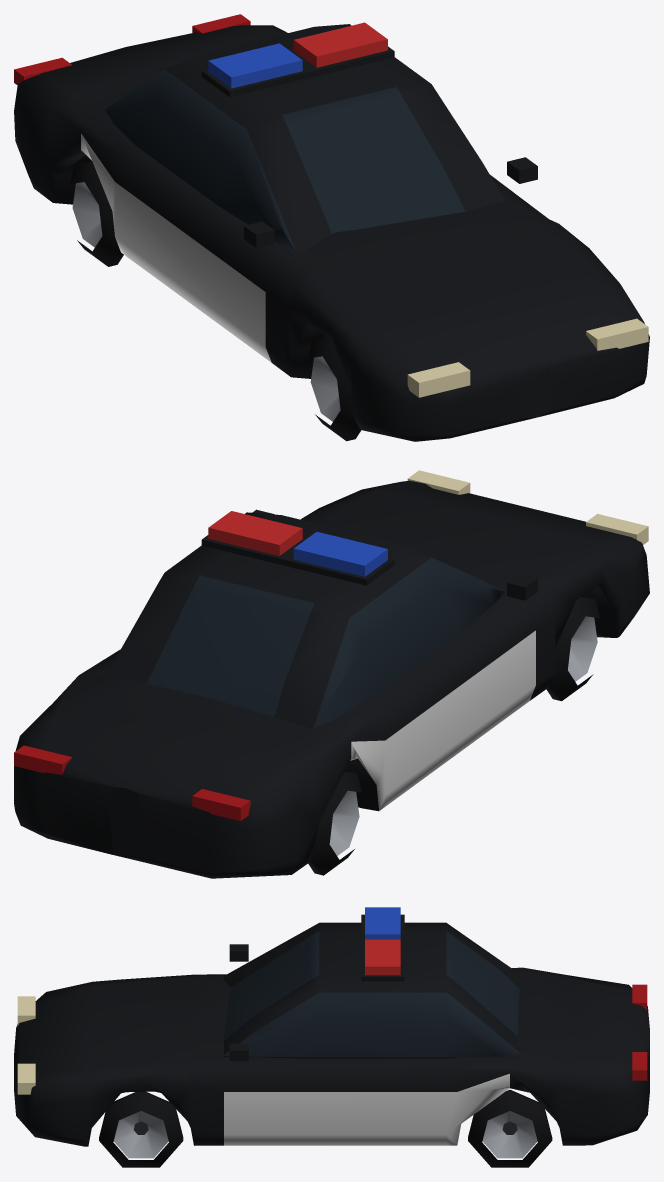
The model's file is mobile-low.glb.
The picture shows the model from 3 angles, top to bottom: view 1: azimuth 30°, elevation 25°; view 2: azimuth 150°, elevation 25°; view 3: azimuth 270°, elevation 25°; orthographic projection. The views are drawn at different scales.
Parts seen in each view (by area): view 1: body, sirens, tyre_rr, tyre_fr, light_head_r, light_head_l, rim_fr, rim_rr, light_brake_r; view 2: body, sirens, tyre_fr, tyre_rr, rim_rr, rim_fr, light_brake_r, light_brake_l, light_head_r, light_head_l; view 3: body, tyre_fl, tyre_rl, sirens, rim_rl, rim_fl, light_head_l, light_head_r, light_brake_l.
Boxes of the visible parts, left/top/right/bottom form: body: left=14, top=24, right=649, bottom=441; sirens: left=208, top=22, right=387, bottom=88; tyre_rr: left=70, top=161, right=123, bottom=266; tyre_fr: left=308, top=336, right=361, bottom=441; light_head_r: left=407, top=362, right=470, bottom=397; light_head_l: left=586, top=318, right=648, bottom=350; rim_fr: left=310, top=356, right=340, bottom=421; rim_rr: left=72, top=182, right=102, bottom=247; light_brake_r: left=14, top=57, right=71, bottom=84; body: left=14, top=480, right=649, bottom=878; sirens: left=208, top=511, right=387, bottom=576; tyre_fr: left=546, top=596, right=599, bottom=701; tyre_rr: left=308, top=771, right=361, bottom=875; rim_rr: left=329, top=790, right=359, bottom=855; rim_fr: left=568, top=616, right=597, bottom=681; light_brake_r: left=192, top=789, right=250, bottom=821; light_brake_l: left=14, top=745, right=72, bottom=774; light_head_r: left=586, top=514, right=648, bottom=544; light_head_l: left=407, top=470, right=470, bottom=494; body: left=14, top=914, right=649, bottom=1146; tyre_fl: left=99, top=1091, right=183, bottom=1167; tyre_rl: left=468, top=1089, right=552, bottom=1167; sirens: left=365, top=907, right=400, bottom=975; rim_rl: left=482, top=1111, right=537, bottom=1158; rim_fl: left=113, top=1111, right=168, bottom=1158; light_head_l: left=17, top=1063, right=35, bottom=1094; light_head_r: left=17, top=996, right=35, bottom=1026; light_brake_l: left=632, top=1052, right=647, bottom=1080.
Size of what is drawn, in the model's own units: 1.98 by 1.61 by 5.
